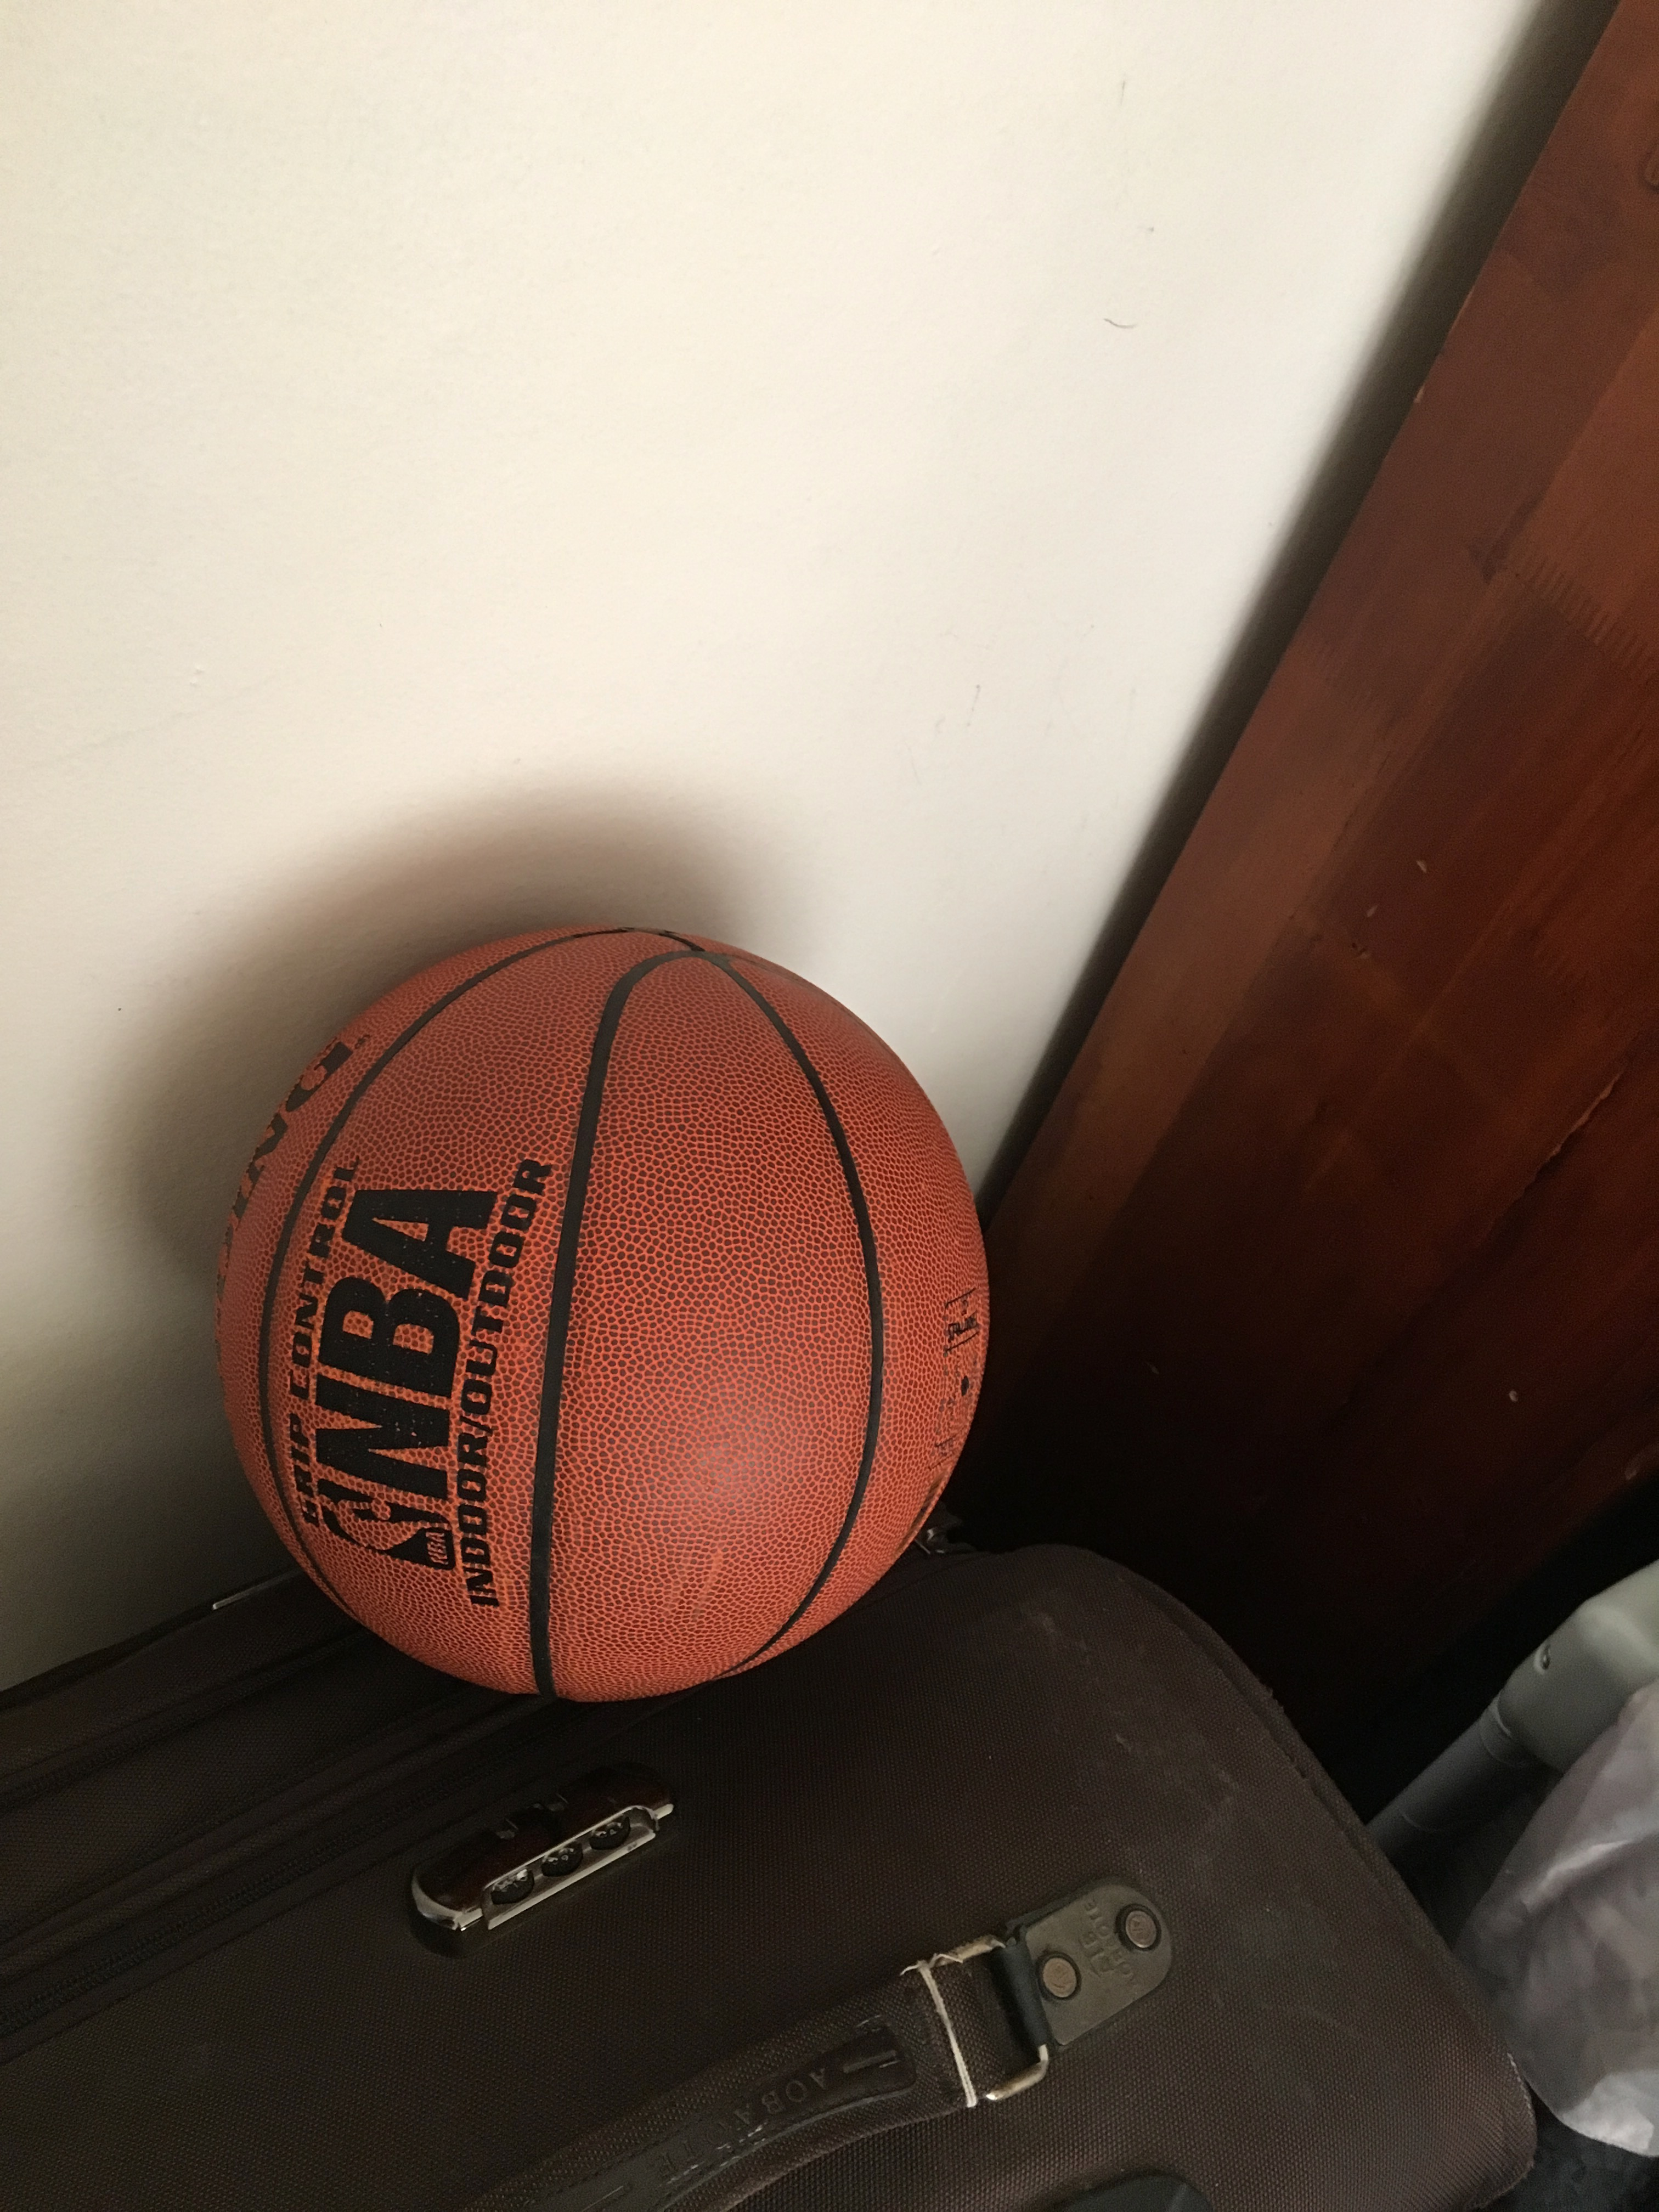Basketball: (199, 902, 1019, 1719)
